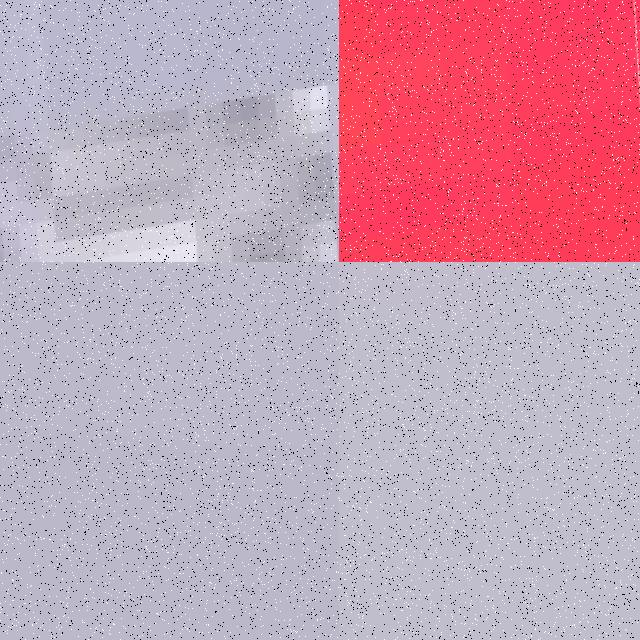0: (0, 0, 339, 262)
drone: (339, 0, 640, 262)
